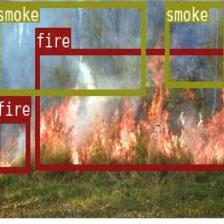fire: (34, 48, 224, 168), (0, 116, 29, 172)
smoke: (0, 0, 145, 94), (164, 1, 224, 85)
